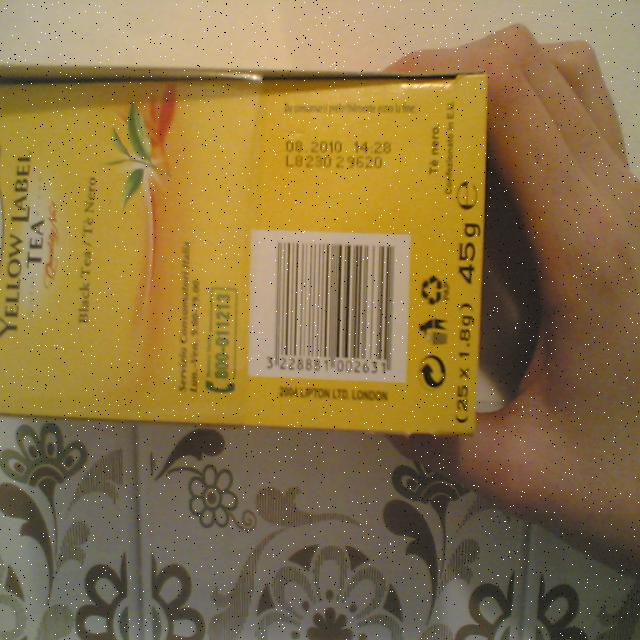barcode: (262, 239, 397, 379)
